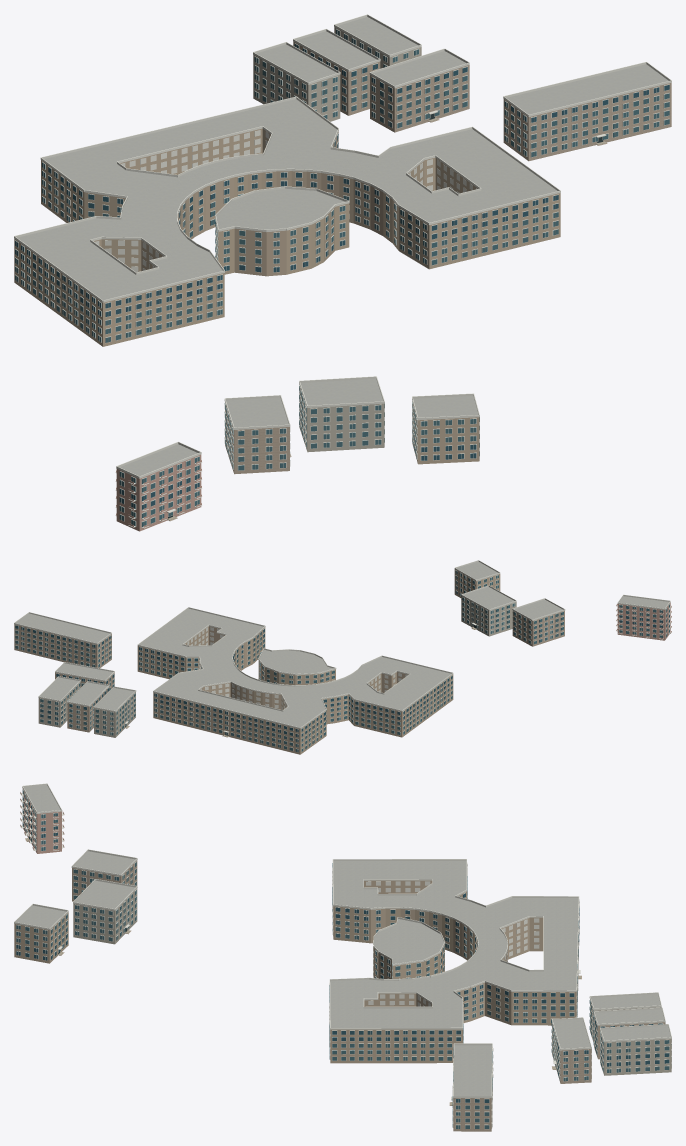
Rendered from chunk-p0-p1.glb.
3 renders of one model, top to bottom at view 1: azimuth 30°, elevation 25°; view 2: azimuth 150°, elevation 25°; view 3: azimuth 270°, elevation 25°, orthographic. The views are drawn at different scales.
Visible parts, largest first — view 1: chunk-p0-p1; view 2: chunk-p0-p1; view 3: chunk-p0-p1.
Part boxes in pixels (x1=…): chunk-p0-p1: x1=14, y1=14, x2=671, y2=531; chunk-p0-p1: x1=14, y1=560, x2=671, y2=754; chunk-p0-p1: x1=14, y1=783, x2=671, y2=1131.
Bounding box in the file's own units: 331 × 24.37 × 302.
10 materials, 3 textured.
